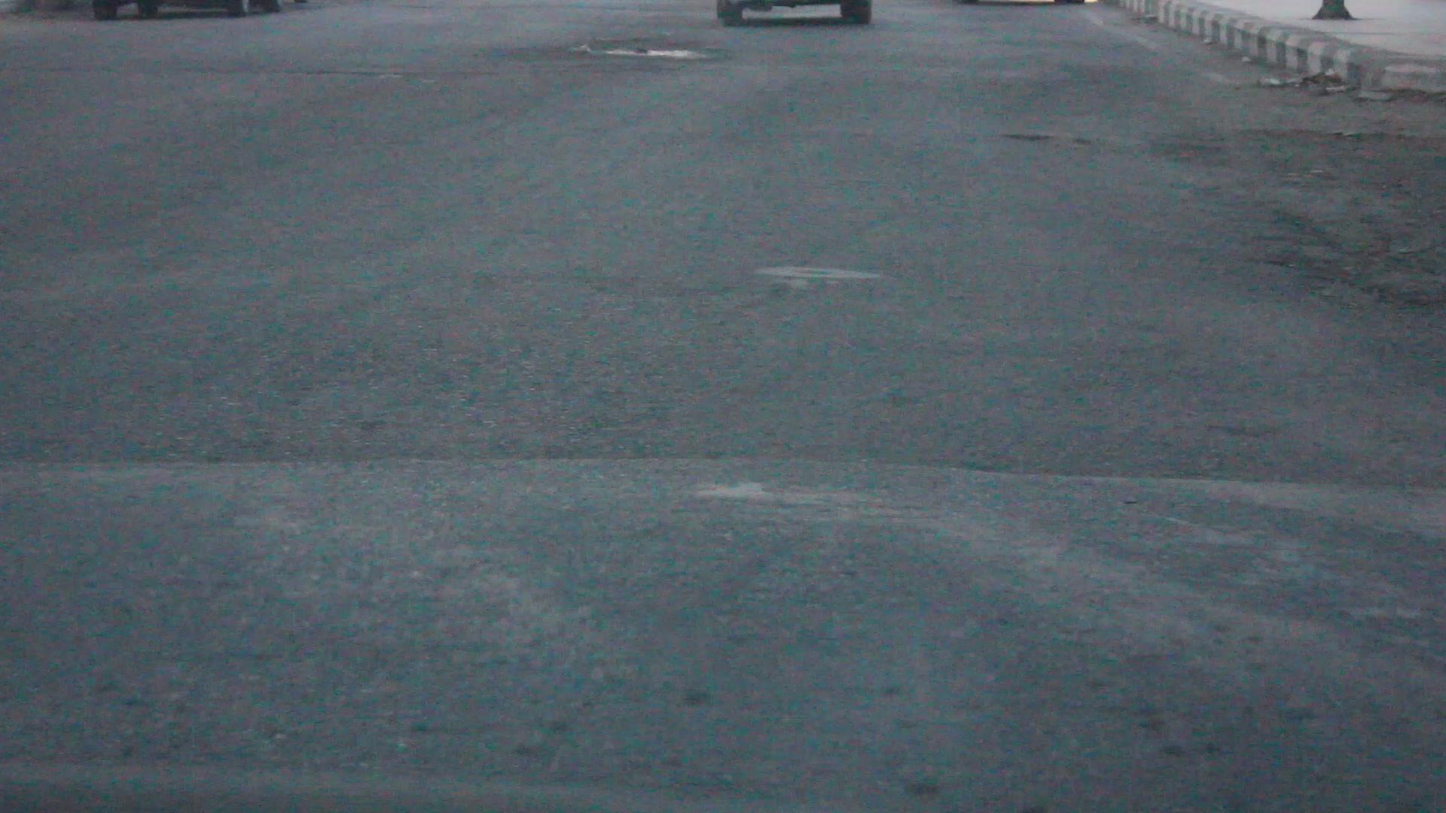Bump: (0, 472, 1446, 772)
